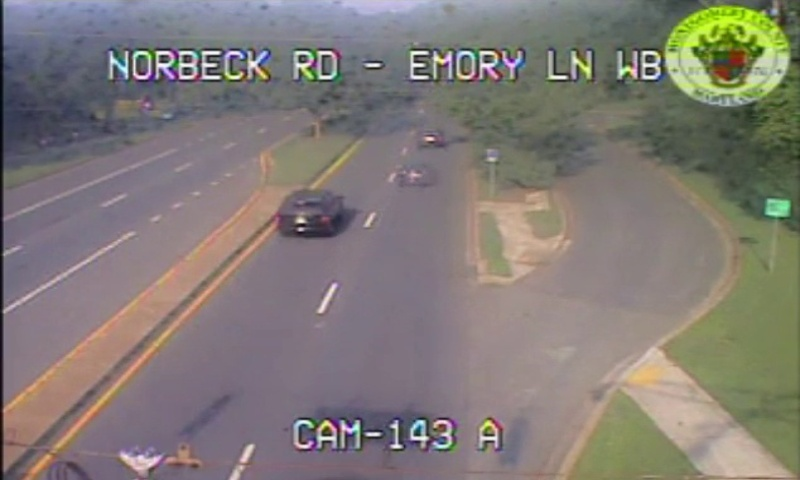car: (276, 191, 341, 235)
